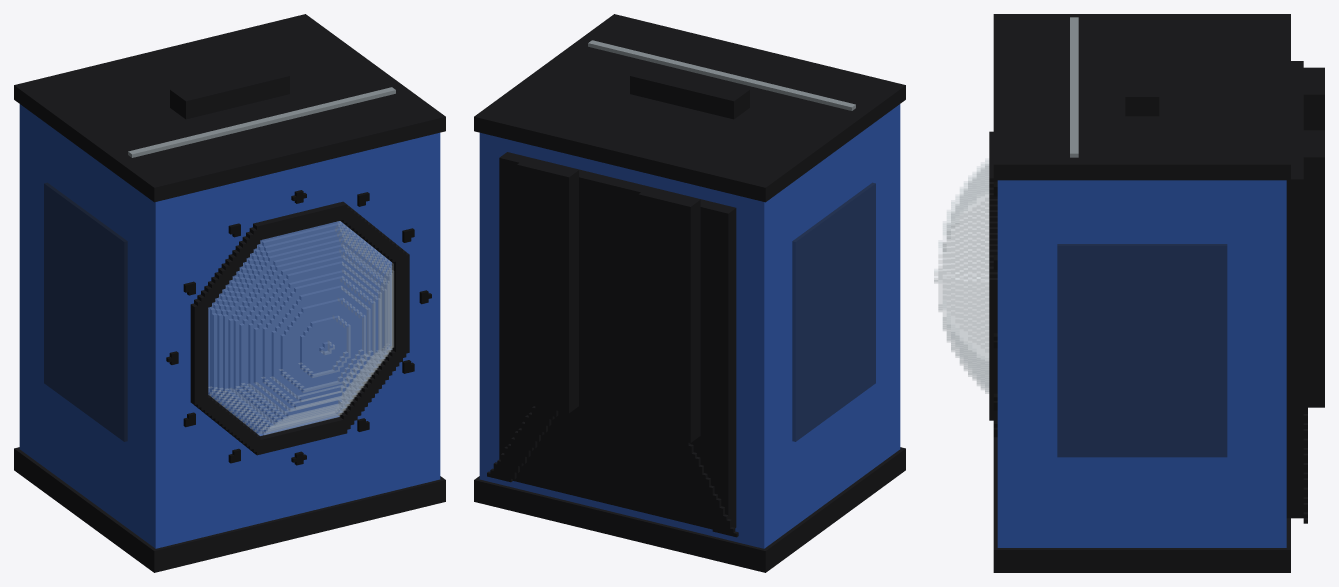
File: petpack.glb
3 renders of one model, left to right at view 1: azimuth 30°, elevation 25°; view 2: azimuth 150°, elevation 25°; view 3: azimuth 270°, elevation 25°, orthographic. The views are drawn at different scales.
Visible parts, largest first — view 1: petpack:compound; view 2: petpack:compound; view 3: petpack:compound.
Part boxes in pixels (x1,y1,x2,y2): petpack:compound: [14, 14, 445, 572]; petpack:compound: [474, 14, 905, 572]; petpack:compound: [934, 14, 1324, 572].
Size of the model in its own units: 0.336 by 0.444 by 0.368.
